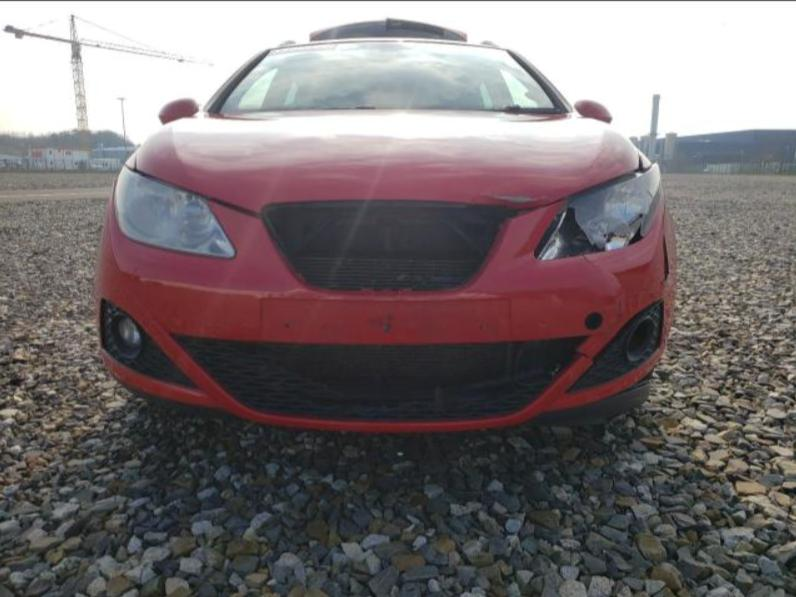Broken part: (93, 190, 678, 433), (171, 334, 587, 422), (261, 199, 539, 290), (536, 166, 664, 259)
Missing part: (629, 319, 653, 359)
Paint chip: (486, 191, 549, 205)
Scratch: (481, 194, 541, 201)
